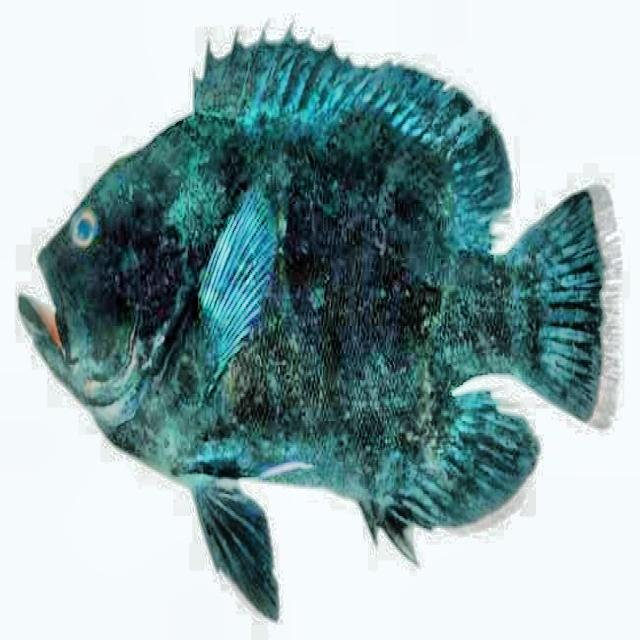fish: (11, 24, 619, 626)
